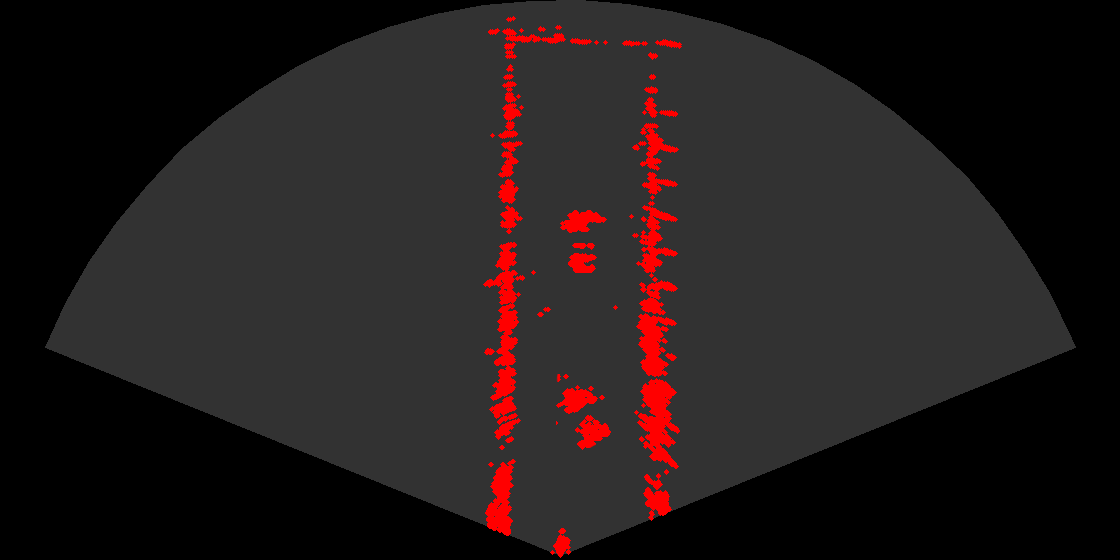AUV: (554, 208, 610, 240)
ball: (548, 235, 608, 276)
cage: (556, 374, 619, 458)
